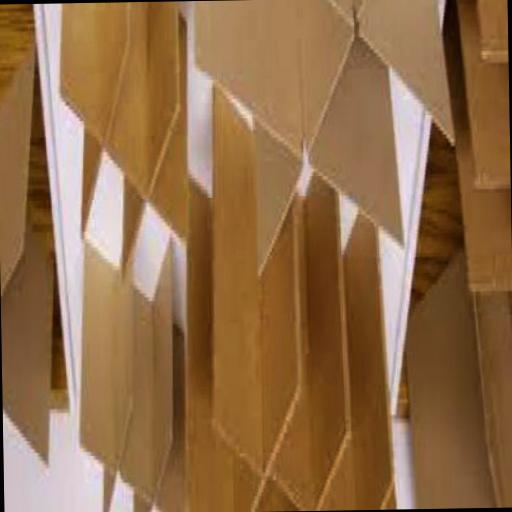cardboard: (179, 87, 399, 512), (196, 1, 406, 280), (60, 6, 192, 288), (78, 241, 187, 512), (406, 251, 512, 509), (0, 30, 59, 473), (304, 0, 456, 154), (450, 0, 512, 295)
